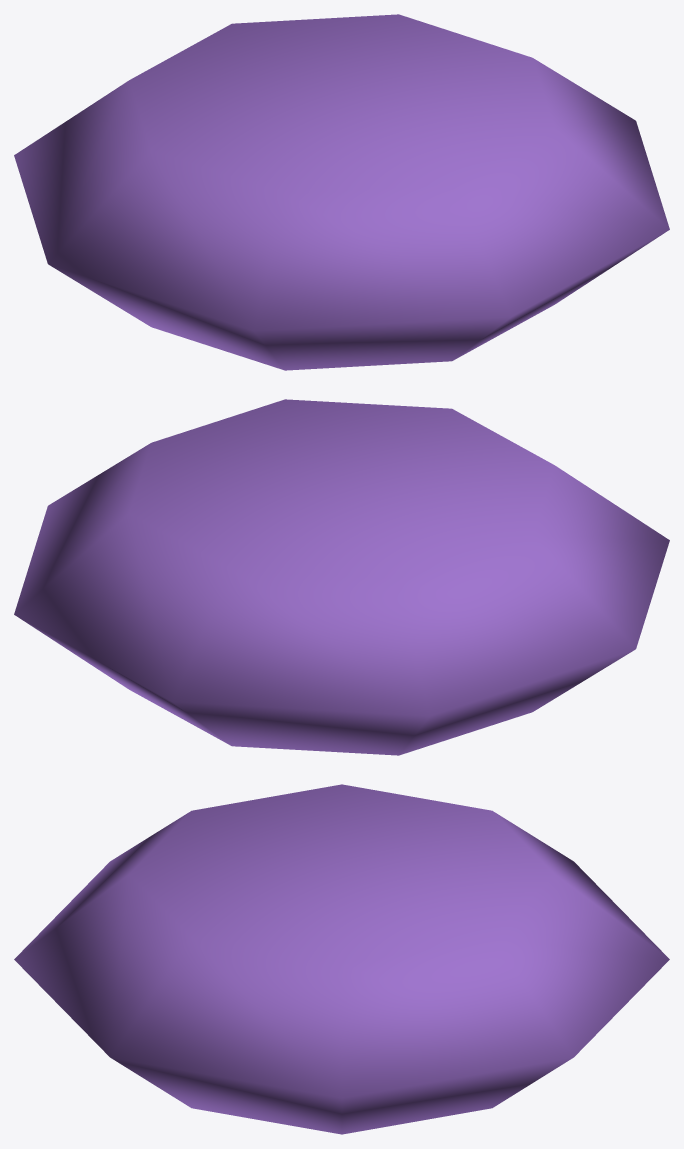
Rendered from CandyPurple_01.fbx.
3 renders of one model, top to bottom at view 1: azimuth 30°, elevation 25°; view 2: azimuth 150°, elevation 25°; view 3: azimuth 270°, elevation 25°, orthographic. The views are drawn at different scales.
Parts seen in each view (by area): view 1: CandyPurple_01; view 2: CandyPurple_01; view 3: CandyPurple_01.
Boxes of the visible parts, x1,y1,x2,y2 form: CandyPurple_01: [14, 14, 669, 370]; CandyPurple_01: [14, 399, 669, 755]; CandyPurple_01: [14, 784, 669, 1134].
Bounding box in the file's own units: 0.0507 × 0.0145 × 0.0507.
